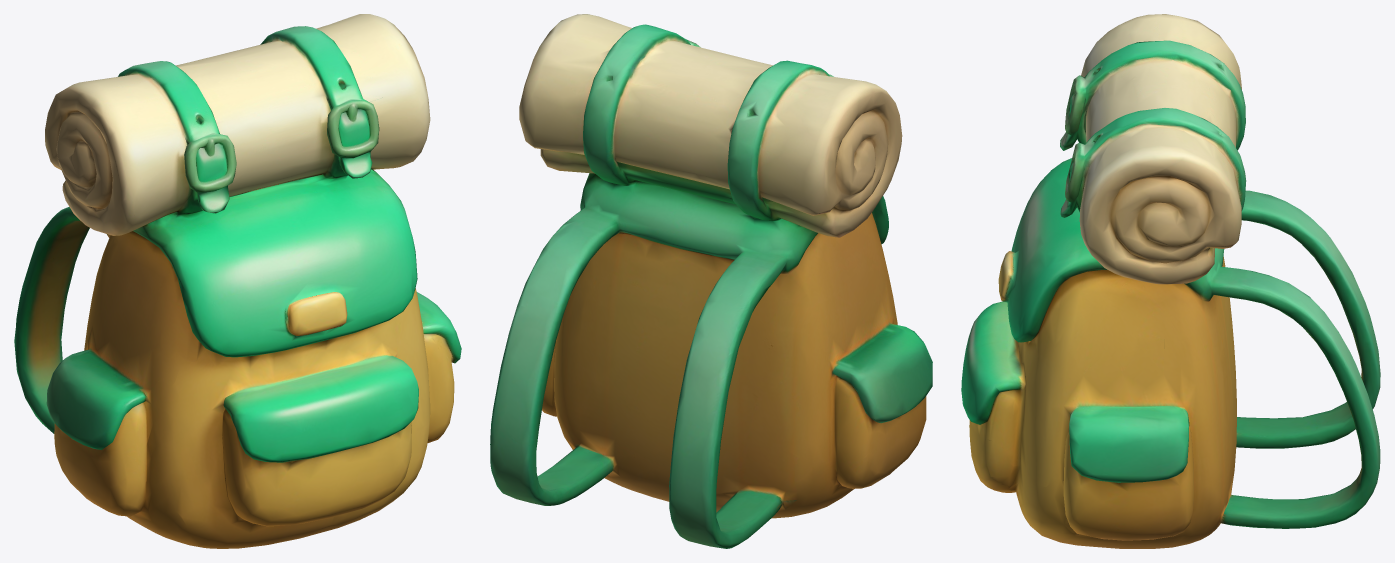
File: bp-explorer.glb
3 views of the same model, side by side, from view 1: azimuth 30°, elevation 25°; view 2: azimuth 150°, elevation 25°; view 3: azimuth 270°, elevation 25° (orthographic). The views are drawn at different scales.
Visible parts, largest first — view 1: tripo_node_2fdef156-b804-41cf-bc26-b206047be406; view 2: tripo_node_2fdef156-b804-41cf-bc26-b206047be406; view 3: tripo_node_2fdef156-b804-41cf-bc26-b206047be406.
Boxes of the visible parts, x1,y1,x2,y2 form: tripo_node_2fdef156-b804-41cf-bc26-b206047be406: (14,14,461,548); tripo_node_2fdef156-b804-41cf-bc26-b206047be406: (490,14,932,548); tripo_node_2fdef156-b804-41cf-bc26-b206047be406: (961,14,1380,548).
Bounding box in the file's own units: 0.8792 × 1 × 0.8835.
Materials: 1 (1 with a texture image).
